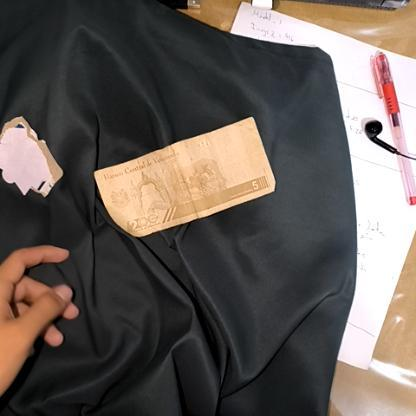five-back-vef: (92, 114, 276, 237)
